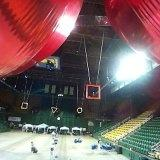Orange_Square_GShape: (86, 83, 100, 99)
Yellow_Triangle_Gshape: (51, 106, 57, 113)
